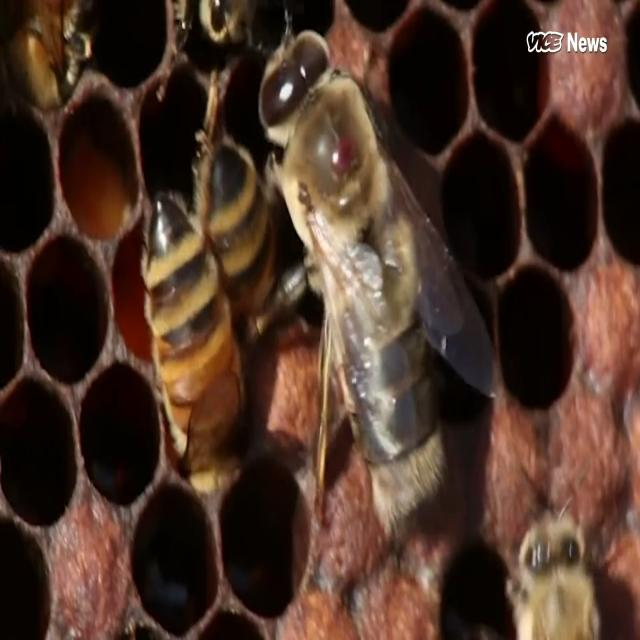Bees: (232, 8, 503, 541)
